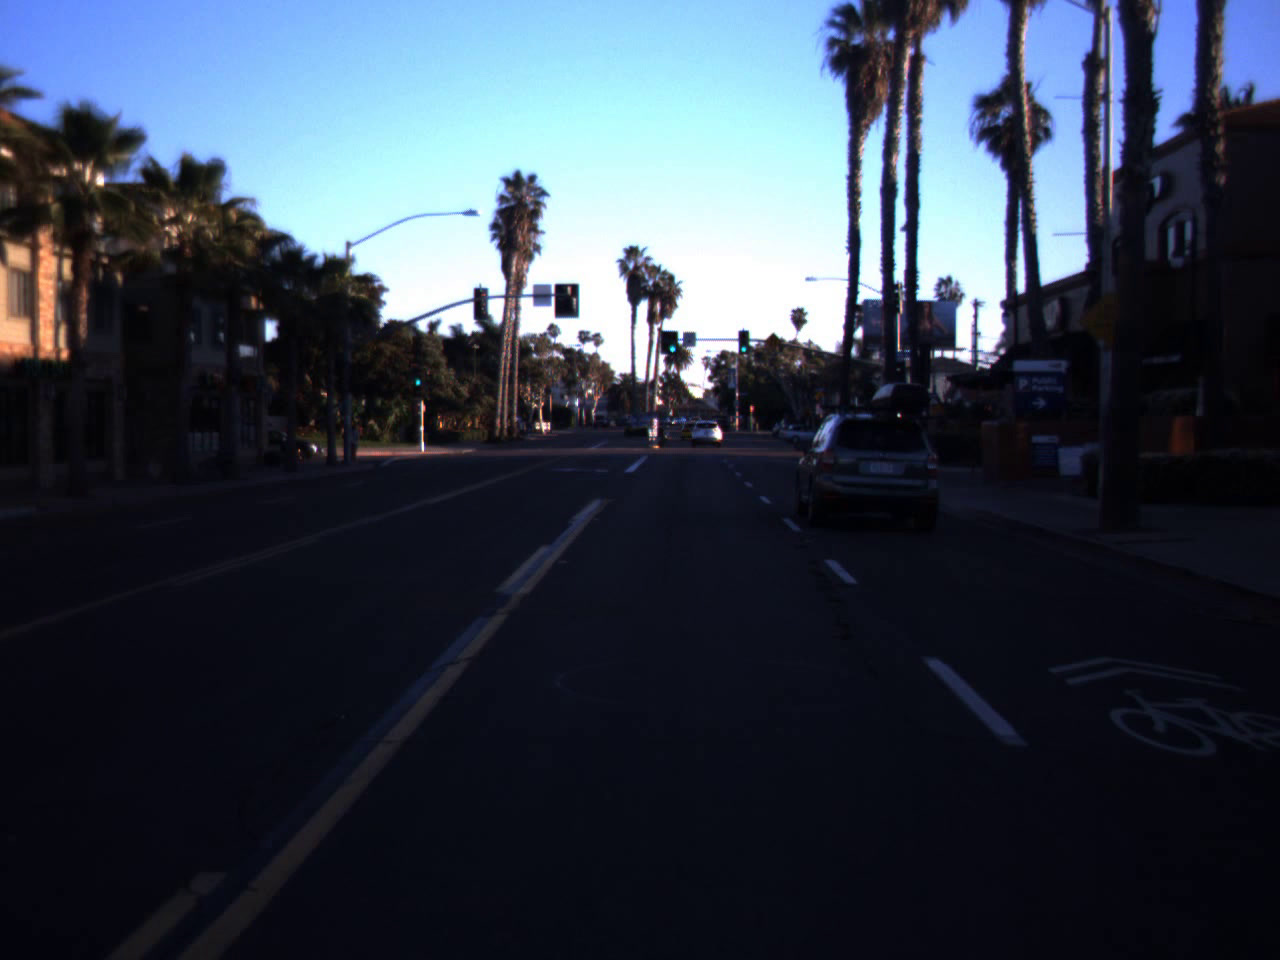go: (665, 329, 680, 354), (412, 366, 424, 386), (738, 333, 750, 353)
